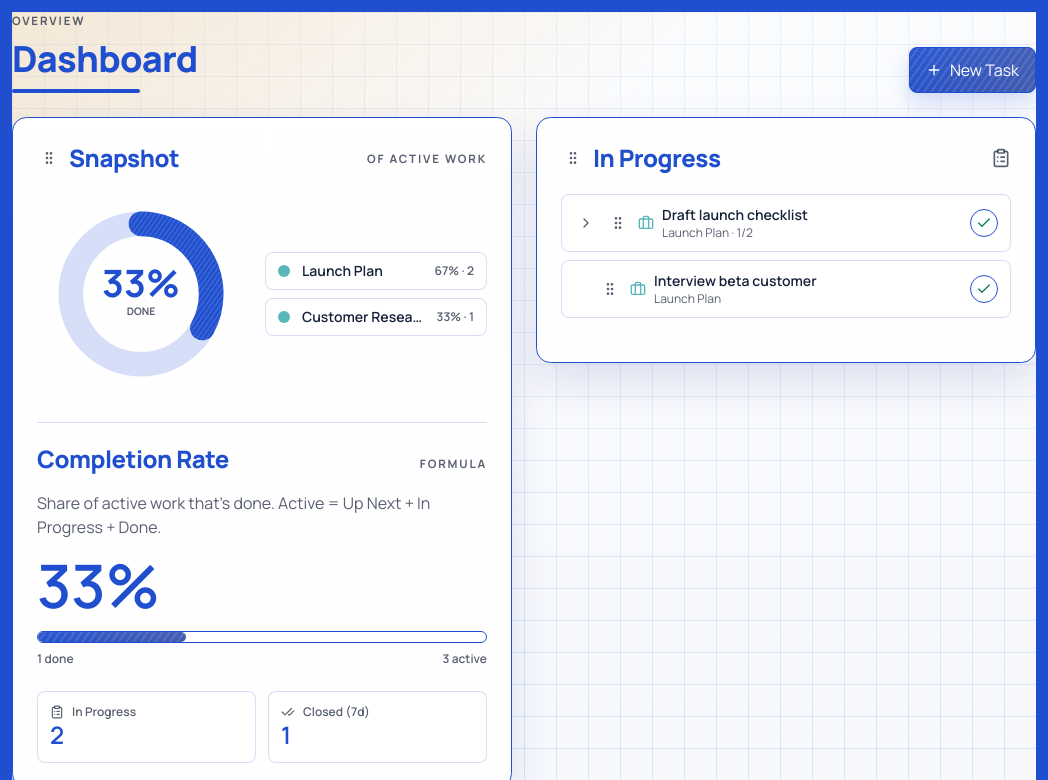
Test: DashboardOverview in-progress panel › expands and hides subtasks from the in-progress row caret
This screenshot has width=1048, height=780.
Click the button named "Show subtasks for Draft launch checklist" at (586, 223), box [574,211,598,235]
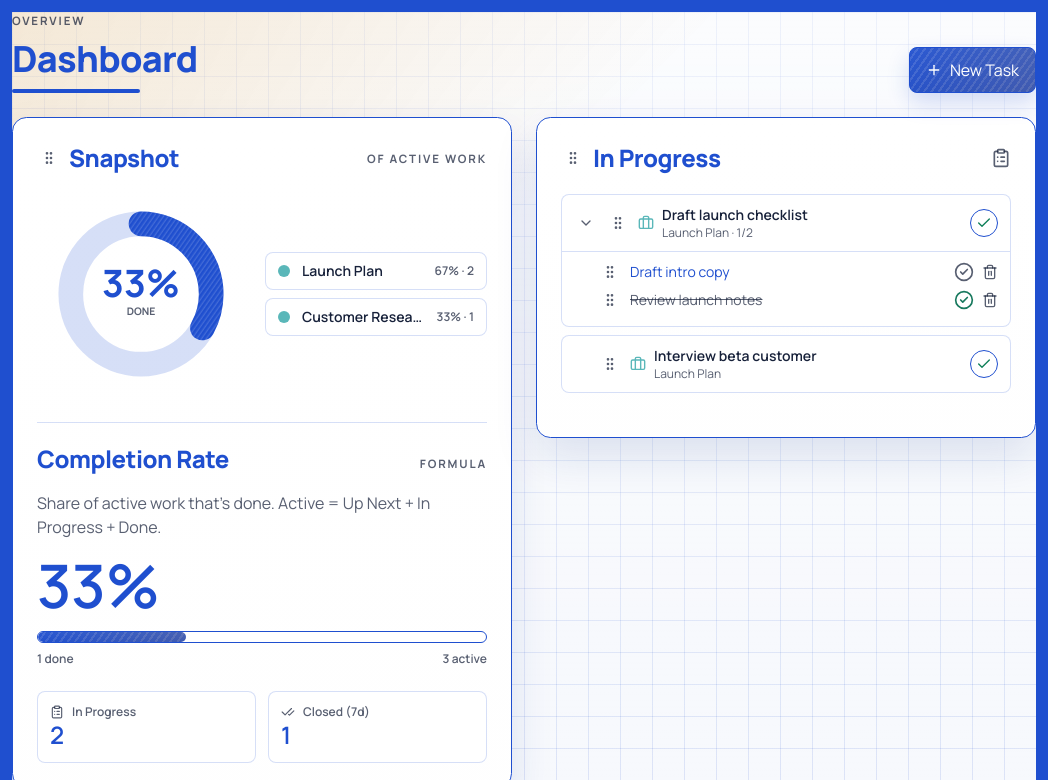
Expected: the button "Draft intro copy" is shown, [630,262,946,282]
Expected: the button "Review launch notes" is shown, [630,290,946,310]
Click the button named "Hide subtasks for Draft launch checklist" at (586, 223), box [574,211,598,235]
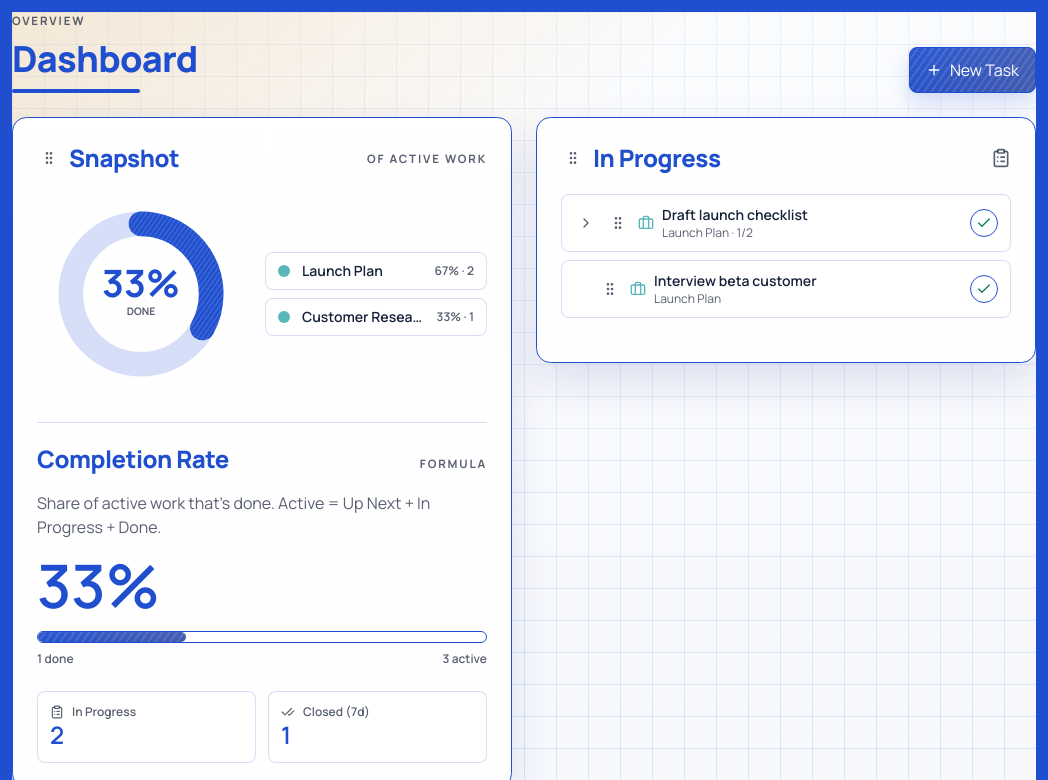
Expected: the button "Draft intro copy" is gone
Expected: the button "Review launch notes" is gone
